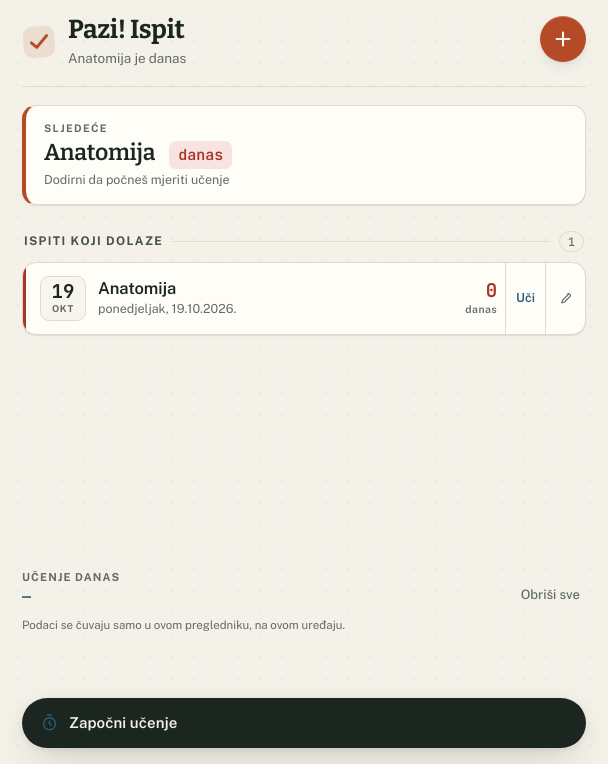
Scenario: Pomodoro kroz ekrane › preživi odlazak na listu i upiše sesiju na kraju faze
This screenshot has width=608, height=764.
Click the button "Započni učenje": (123, 722) [22,698,586,748]
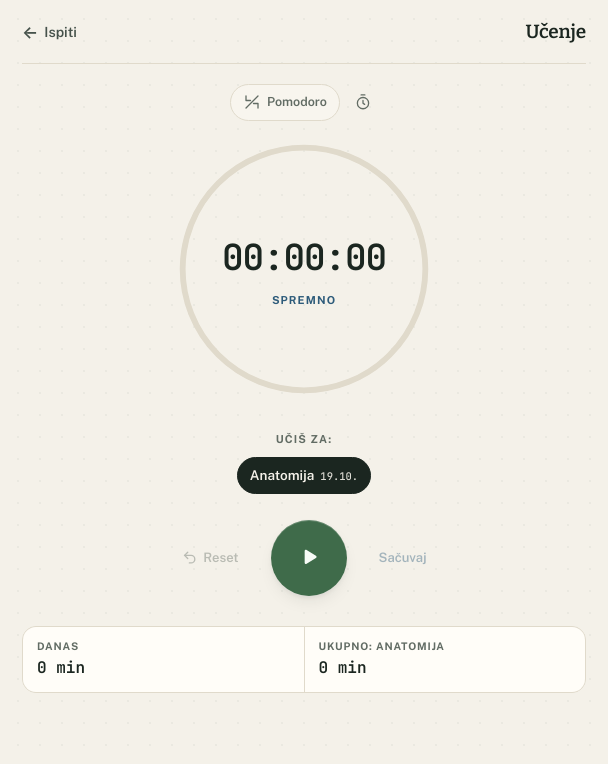
Click the button "Pomodoro": (285, 102) [230,84,340,121]
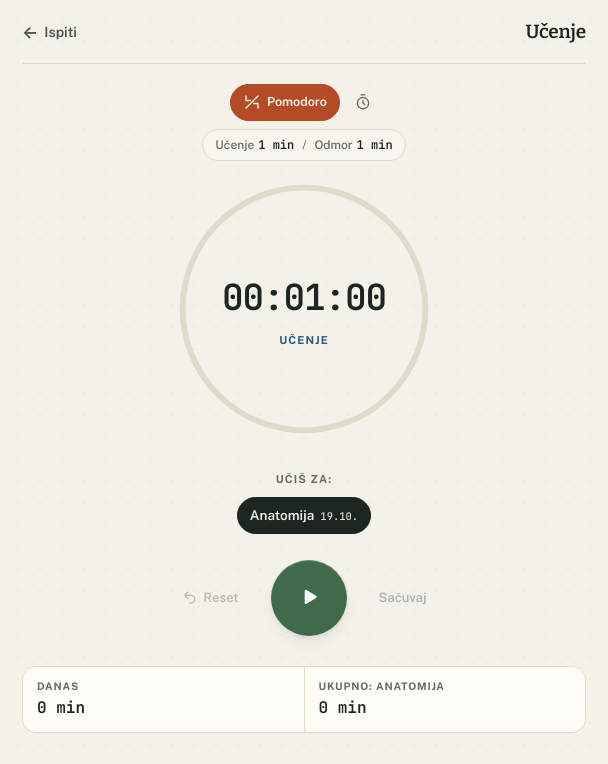
Click the button named "Započni učenje": (309, 598) [271,560,347,636]
Wait 60000 ms
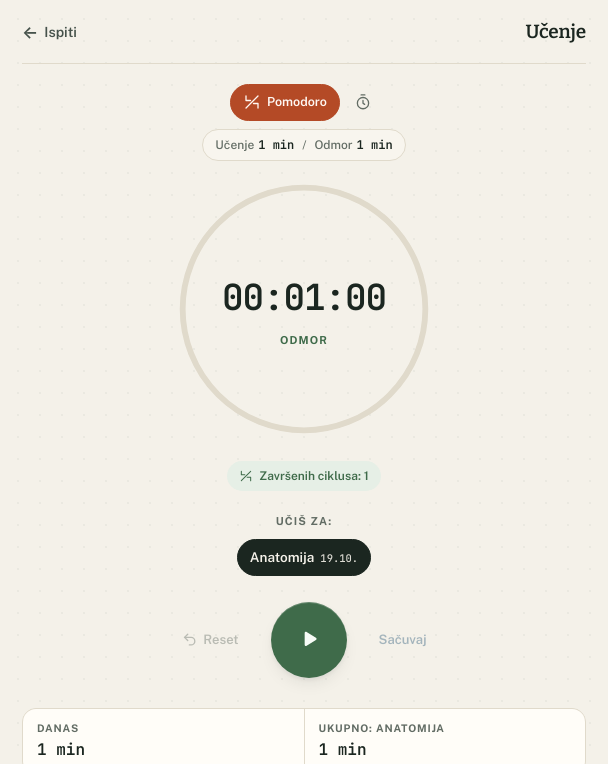
Expected: the text with class "timer__phase-label" reads "Odmor", [280,334,328,346]
Note: Odlazak na listu i povratak ne smiju isključiti Pomodoro.
Click the button "← Ispiti": (52, 32) [16,16,87,49]
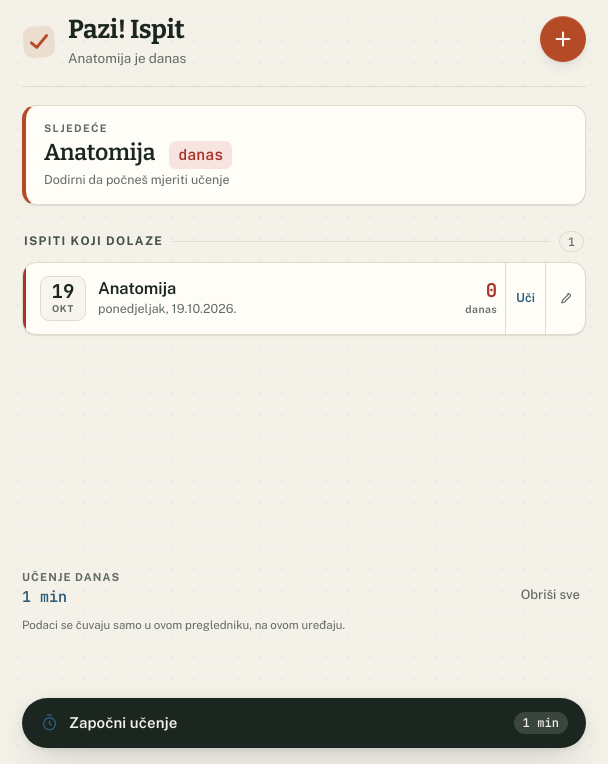
Click the button "Započni učenje 1 min": (123, 722) [22,698,586,748]
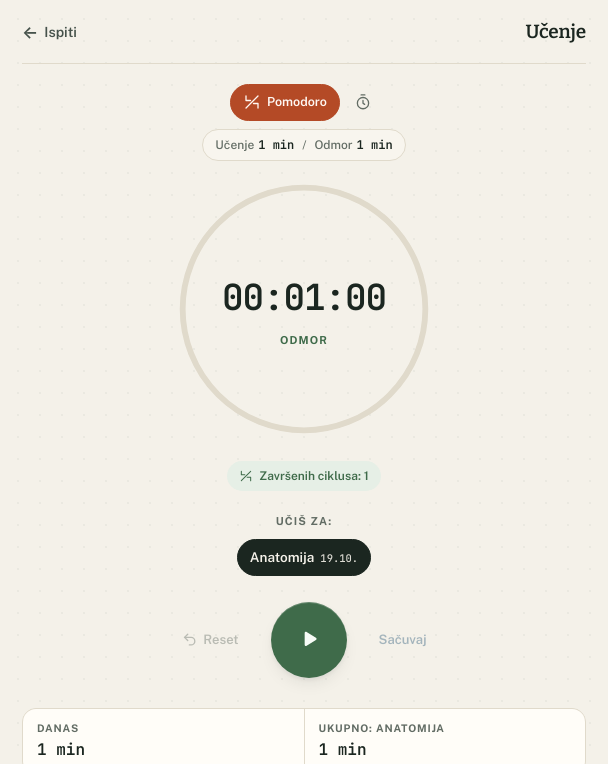
Expected: the text with class "timer__phase-label" reads "Odmor", [280,334,328,346]
Expected: the text "00:01:00" is shown, [222,270,386,324]
